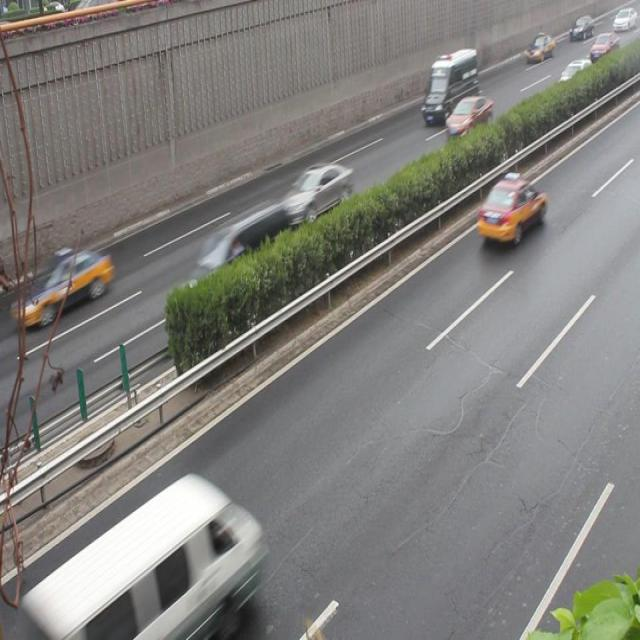car: (22, 246, 114, 324), (476, 174, 547, 244), (278, 161, 352, 228), (444, 96, 493, 142)
truck: (30, 481, 257, 640), (178, 201, 289, 307), (419, 46, 478, 125)
